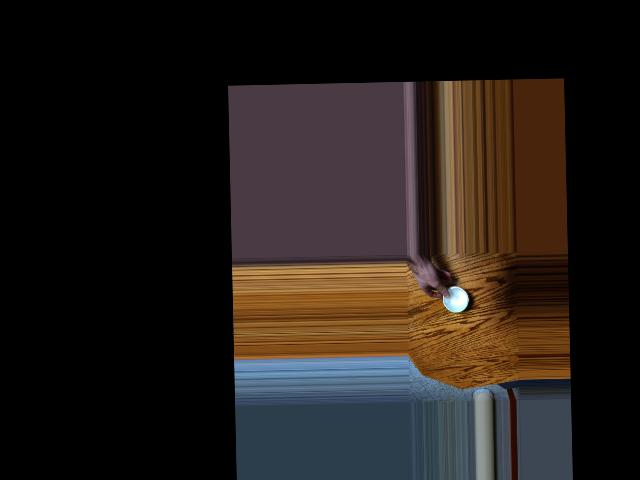cotage: (441, 285, 465, 310)
